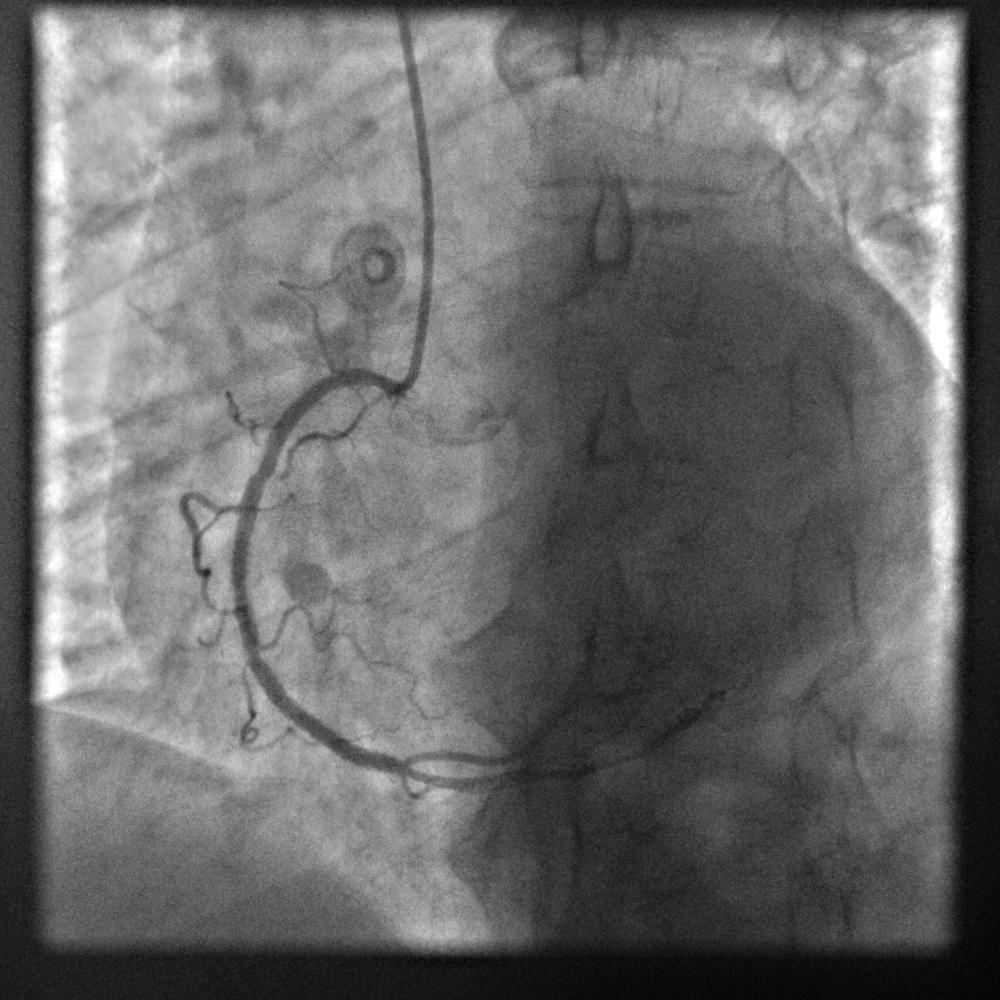Stenosis: (243, 427, 288, 494)
